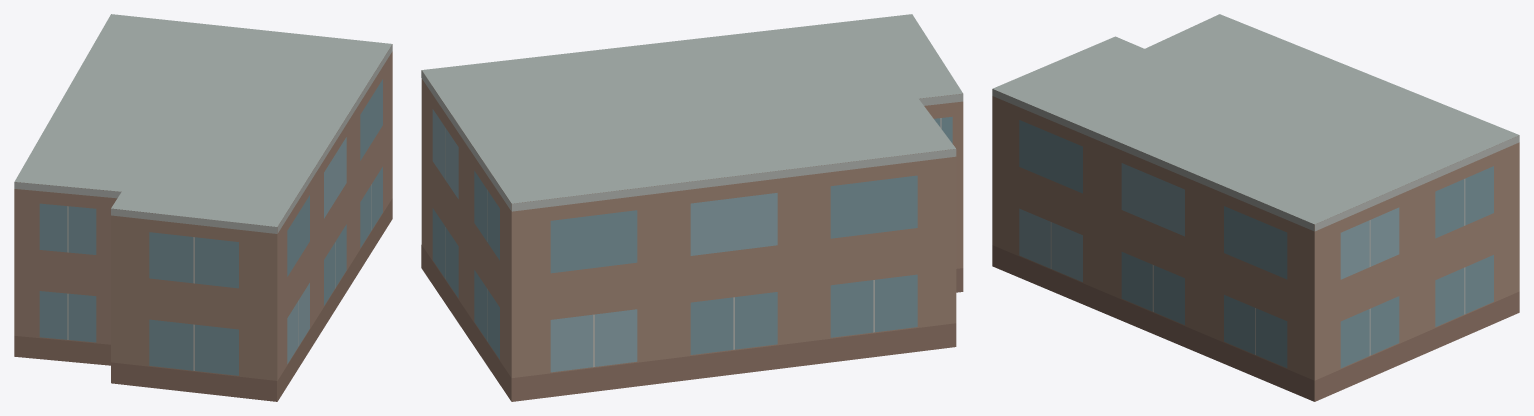
File: survey-upis-32849218.glb
3 renders of one model, left to right at view 1: azimuth 30°, elevation 25°; view 2: azimuth 150°, elevation 25°; view 3: azimuth 270°, elevation 25°, orthographic. The views are drawn at different scales.
Parts seen in each view (by area): view 1: survey-upis-32849218.tmp; view 2: survey-upis-32849218.tmp; view 3: survey-upis-32849218.tmp.
Boxes of the visible parts, x1,y1,x2,y2 form: survey-upis-32849218.tmp: [14, 14, 392, 401]; survey-upis-32849218.tmp: [421, 14, 963, 401]; survey-upis-32849218.tmp: [992, 14, 1519, 401].
Bounding box in the file's own units: 15.53 × 6.1 × 16.44.
